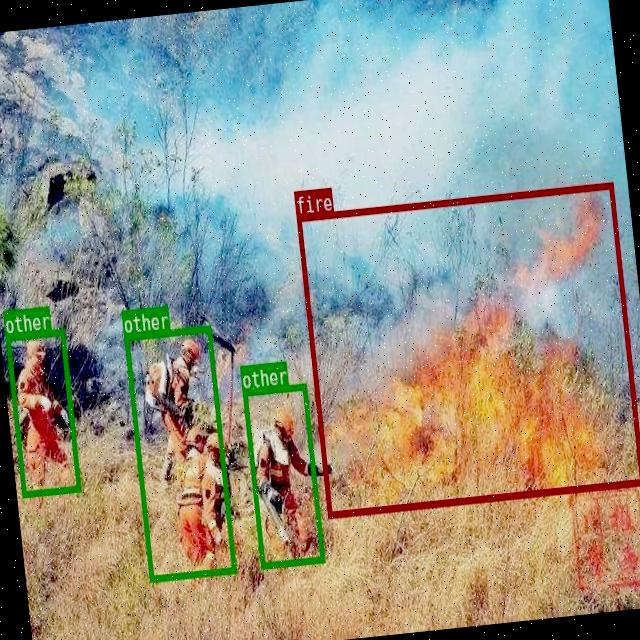fire: (295, 180, 640, 517)
